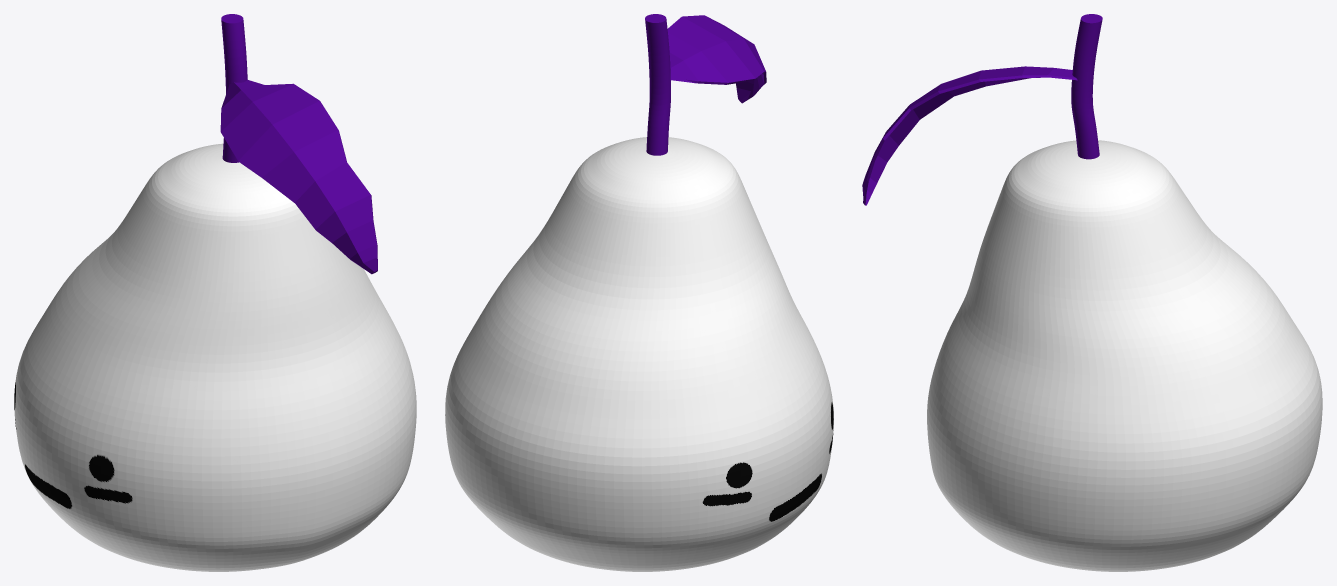
The model's file is darkpear.gltf.
The picture shows the model from 3 angles, left to right: view 1: azimuth 30°, elevation 25°; view 2: azimuth 150°, elevation 25°; view 3: azimuth 270°, elevation 25°; orthographic projection. The views are drawn at different scales.
Visible parts, largest first — view 1: Body, Leaf, Stem; view 2: Body, Leaf, Stem; view 3: Body, Leaf, Stem.
Boxes of the visible parts, x1,y1,x2,y2 form: Body: (14, 143, 416, 571); Leaf: (220, 79, 377, 274); Stem: (221, 14, 247, 162); Body: (445, 137, 833, 571); Leaf: (667, 15, 766, 103); Stem: (645, 14, 670, 155); Body: (927, 140, 1322, 571); Leaf: (862, 66, 1077, 205); Stem: (1071, 14, 1102, 159).
Size of the model in its own units: 2.51 by 3.68 by 2.92.
3 materials, 1 textured.
